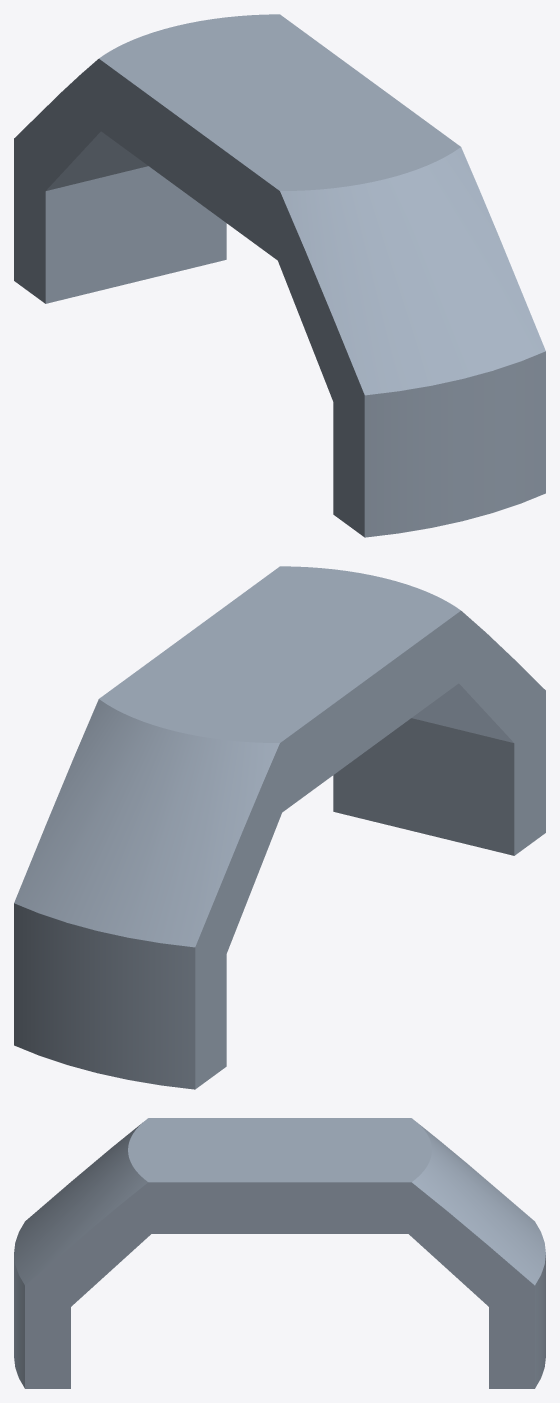
Rendered from fuelrod_handle.obj.
The picture shows the model from 3 angles, top to bottom: view 1: azimuth 30°, elevation 25°; view 2: azimuth 150°, elevation 25°; view 3: azimuth 270°, elevation 25°; orthographic projection. The views are drawn at different scales.
Parts seen in each view (by area): view 1: 1; view 2: 1; view 3: 1.
Part boxes in pixels (x1=…): 1: x1=14, y1=14, x2=545, y2=537; 1: x1=14, y1=566, x2=545, y2=1089; 1: x1=14, y1=1118, x2=545, y2=1388.
Size of the model in its own units: 4 by 6 by 14.
